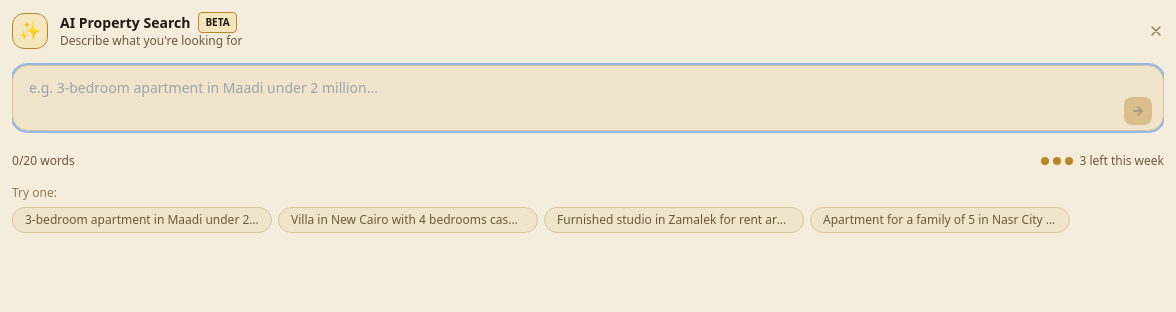
Test: AISearchPanel › disables submit while loading
Type "3 bedroom apartment in Maadi under 2 million" into the text box with placeholder "e.g. 3-bedroom apartment in Maadi under 2 million…" at x=588, y=98, box [12,65,1164,131]
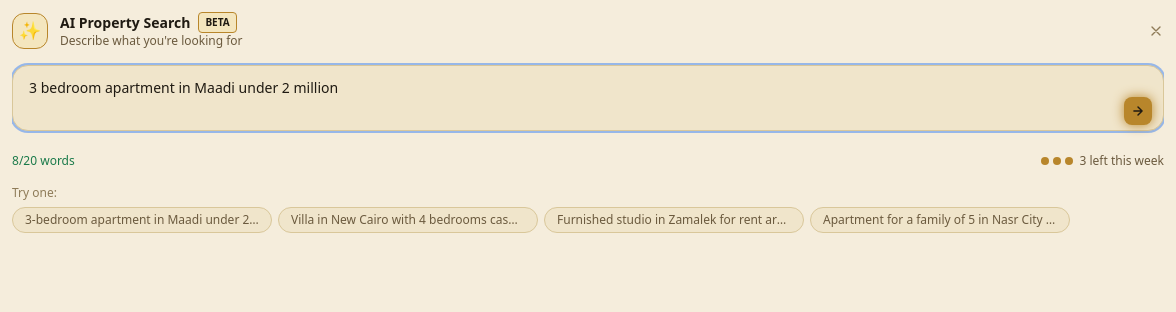
Press Enter
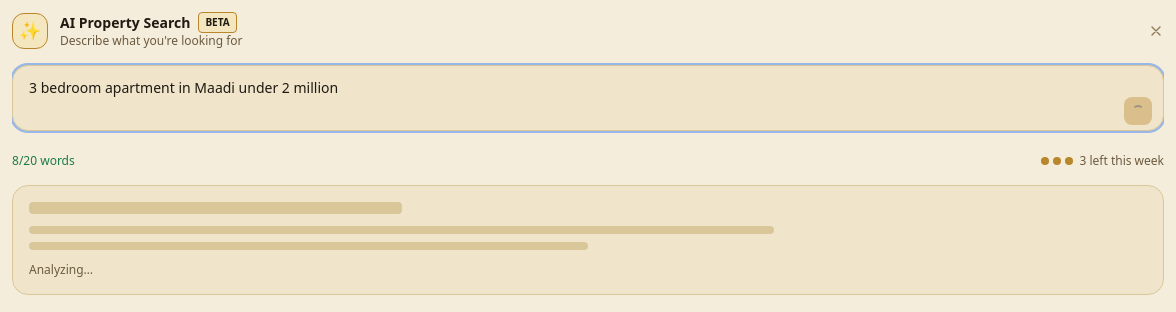
Now the button named "Search" is disabled, box [1124,97,1152,125]
